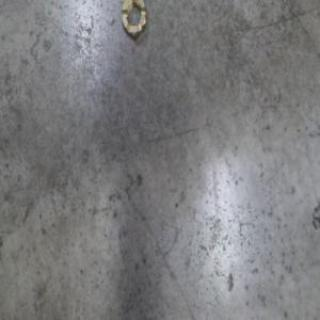Nuttrack_idkeyframe: (119, 0, 148, 37)
